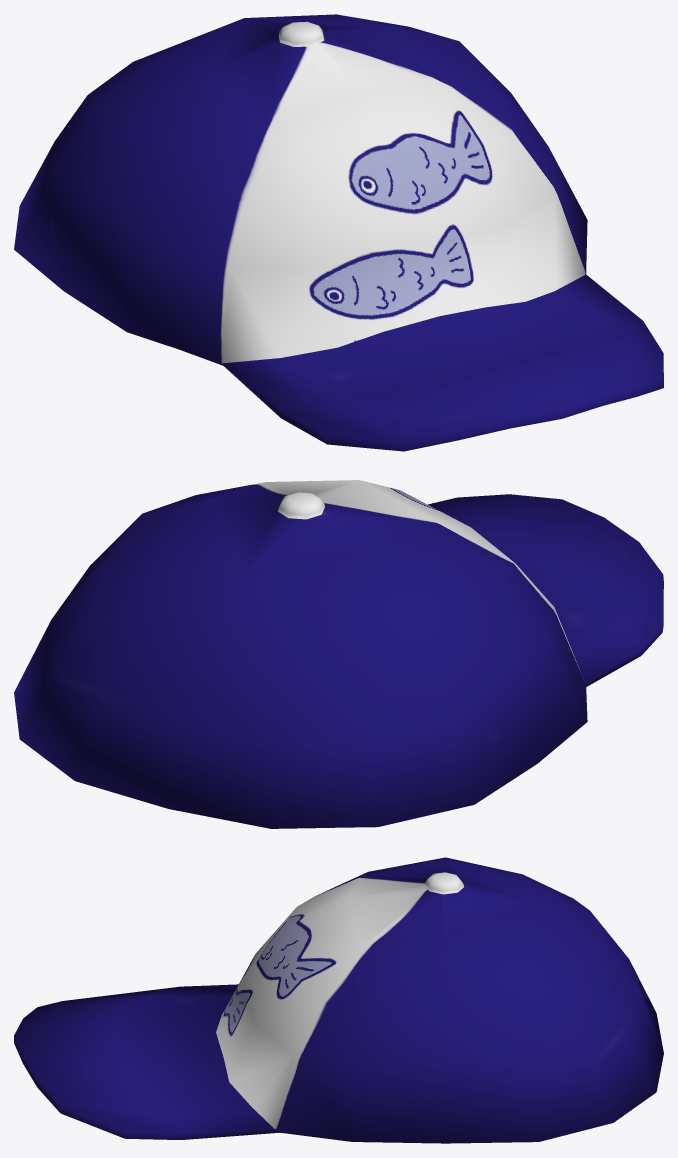
The model's file is gorra.glb.
The picture shows the model from 3 angles, top to bottom: view 1: azimuth 30°, elevation 25°; view 2: azimuth 150°, elevation 25°; view 3: azimuth 270°, elevation 25°; orthographic projection. The views are drawn at different scales.
Visible parts, largest first — view 1: Cubo; view 2: Cubo; view 3: Cubo.
Part boxes in pixels (box(x1,y1,x2,y2)): Cubo: box(14, 14, 663, 451); Cubo: box(14, 480, 663, 828); Cubo: box(14, 857, 663, 1143).
Bounding box in the file's own units: 0.8271 × 0.3918 × 1.19.
Materials: 1 (1 with a texture image).
